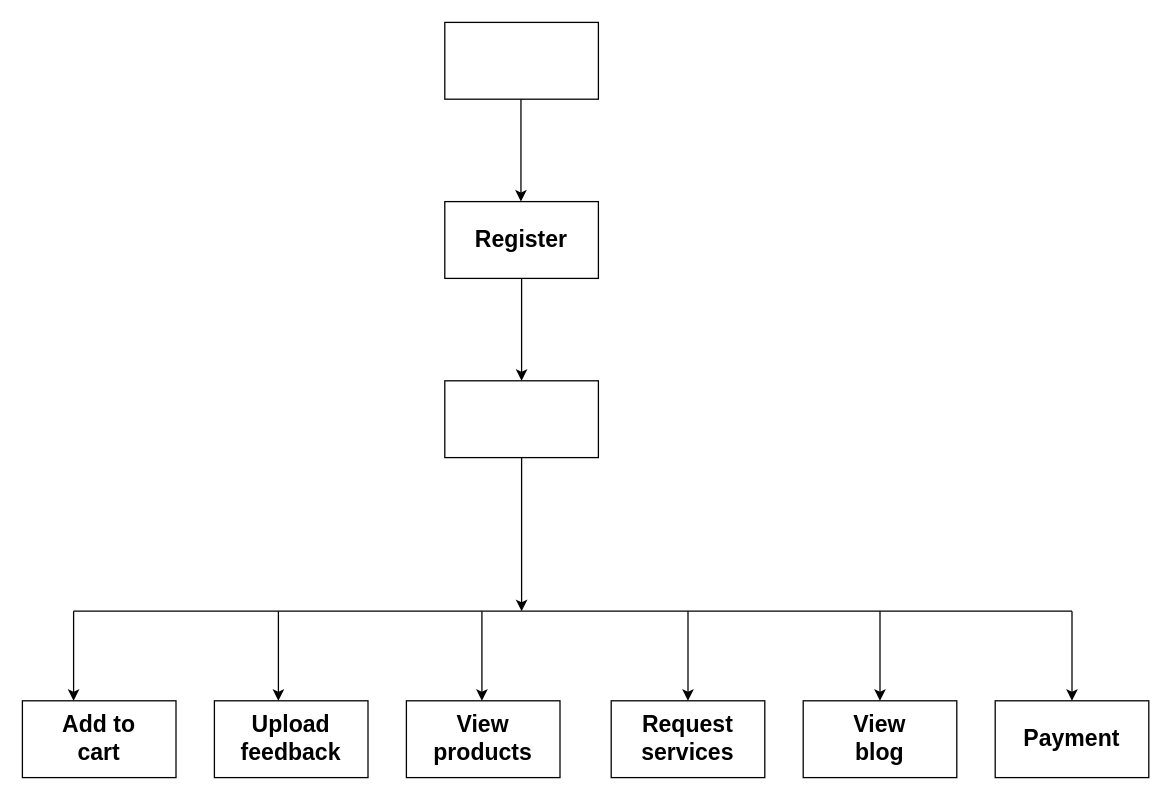
Some shapes in this 1171 by 800 pixel diagram are drawn without their labels. Each missing label, with the centre of its shape:
"Customer" belongs at [521,60].
"Login" belongs at [521,419].
